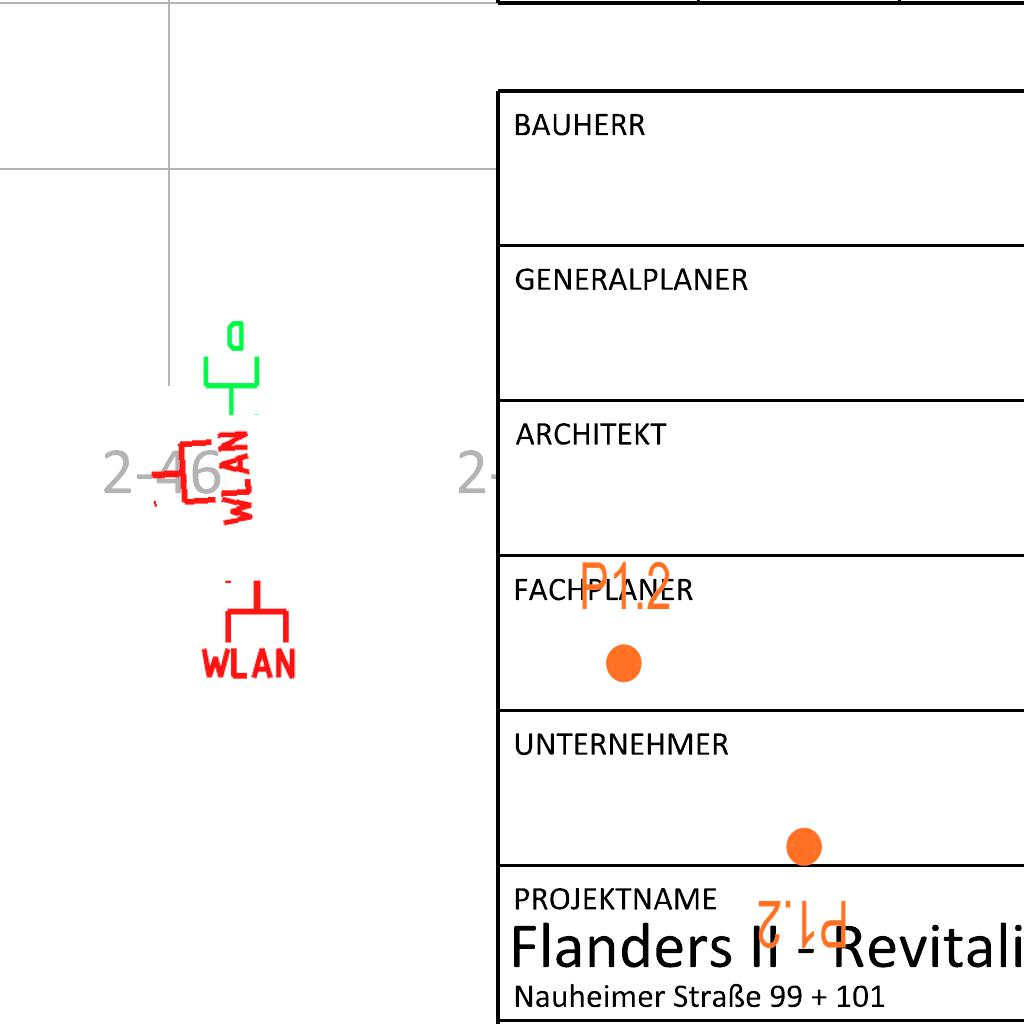Datenanschluss_einfach: (195, 318, 264, 418)
Downlight_LED_Einbauleuchten_Flur: (579, 558, 672, 686), (756, 824, 849, 952)
WLAN: (144, 425, 257, 537), (196, 576, 300, 681)
